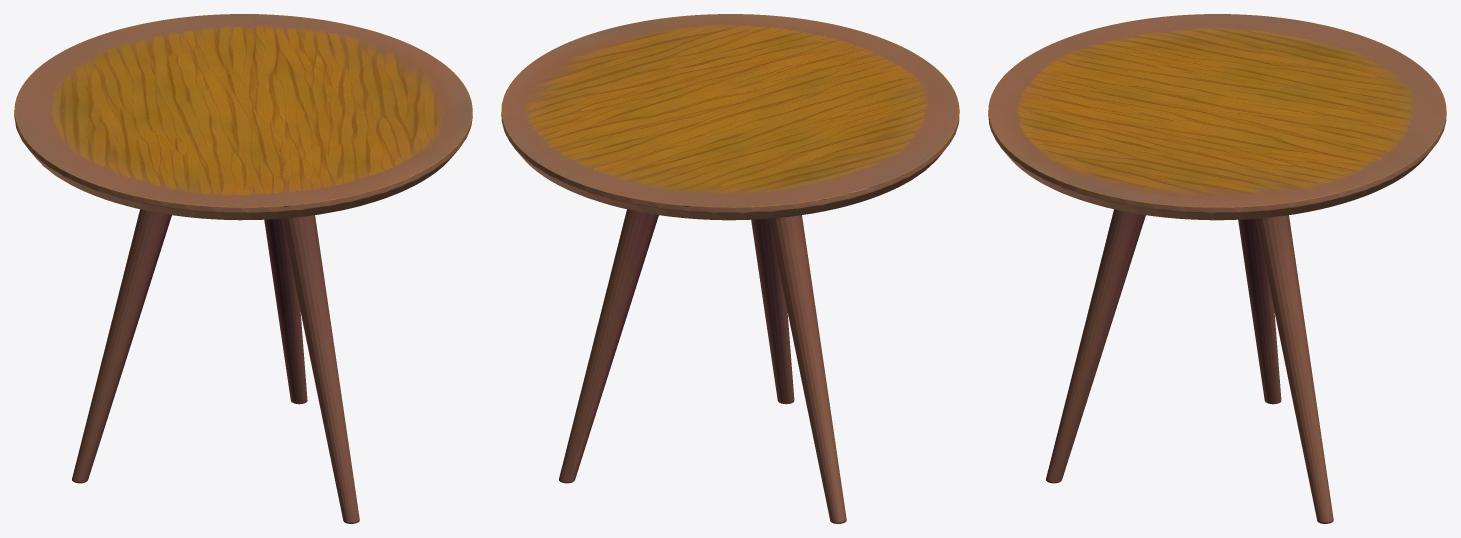
File: edited_mesh.glb
The picture shows the model from 3 angles, left to right: view 1: azimuth 30°, elevation 25°; view 2: azimuth 150°, elevation 25°; view 3: azimuth 270°, elevation 25°; orthographic projection.
Visible parts, largest first — view 1: normalized_model.obj; view 2: normalized_model.obj; view 3: normalized_model.obj.
Boxes of the visible parts, x1=… form: normalized_model.obj: x1=14, y1=14, x2=472, y2=523; normalized_model.obj: x1=501, y1=14, x2=959, y2=523; normalized_model.obj: x1=988, y1=14, x2=1446, y2=523.
Bounding box in the file's own units: 1.47 × 1.26 × 1.47.
Materials: 1 (1 with a texture image).
